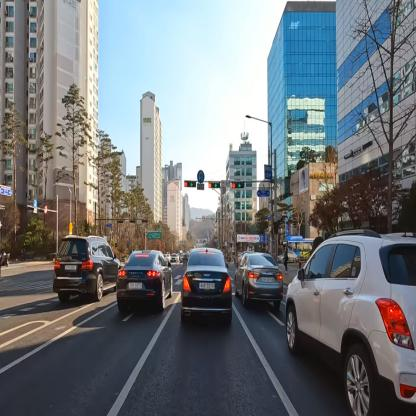Red left: (183, 178, 197, 190), (207, 180, 222, 190), (232, 180, 245, 190)
